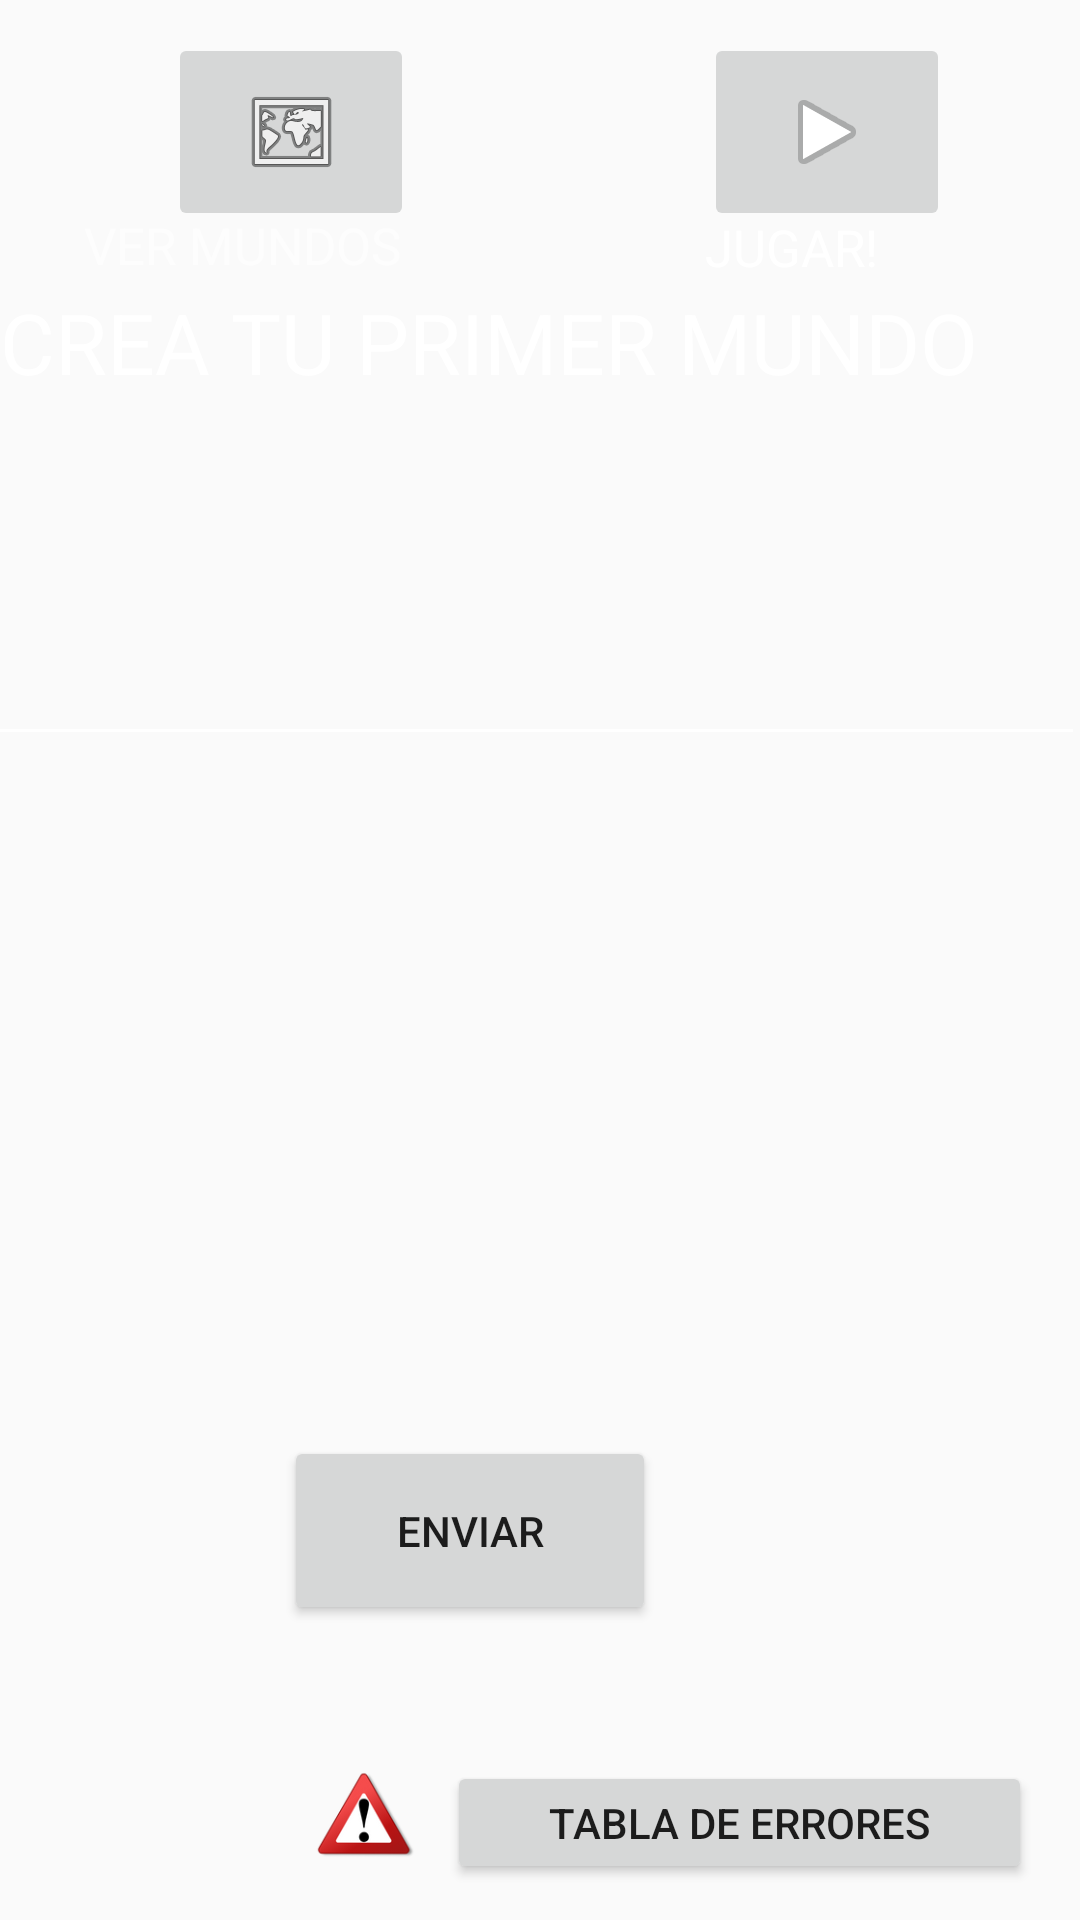

Point at icon controls on the screen. Image size 1080px x 1920px, points as (x,y).
errorimage: (364,1814)
mapmode: (291,132)
